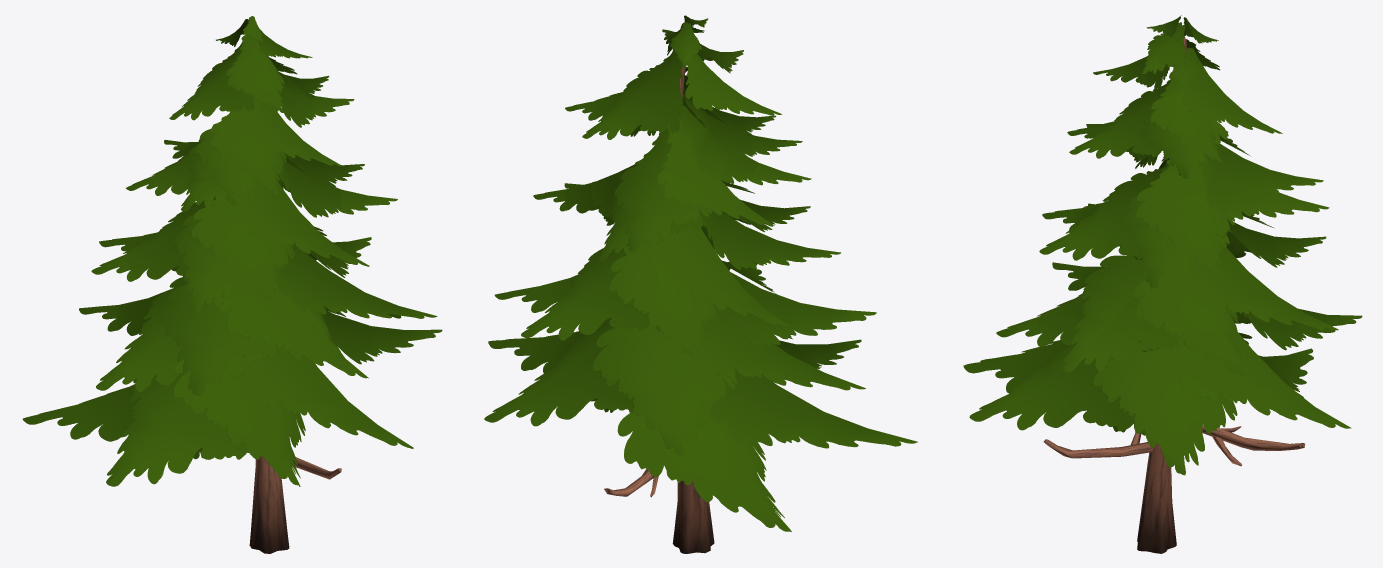
File: Pine_2_s.gltf
3 views of the same model, side by side, from view 1: azimuth 30°, elevation 25°; view 2: azimuth 150°, elevation 25°; view 3: azimuth 270°, elevation 25° (orthographic). The views are drawn at different scales.
Parts seen in each view (by area): view 1: Pine_2; view 2: Pine_2; view 3: Pine_2.
Boxes of the visible parts, box(x1,y1,x2,y2) form: Pine_2: box(22, 16, 442, 553); Pine_2: box(484, 15, 917, 553); Pine_2: box(963, 15, 1362, 553).
Bounding box in the file's own units: 5.73 × 7.38 × 5.22.
Materials: 2 (2 with a texture image).
